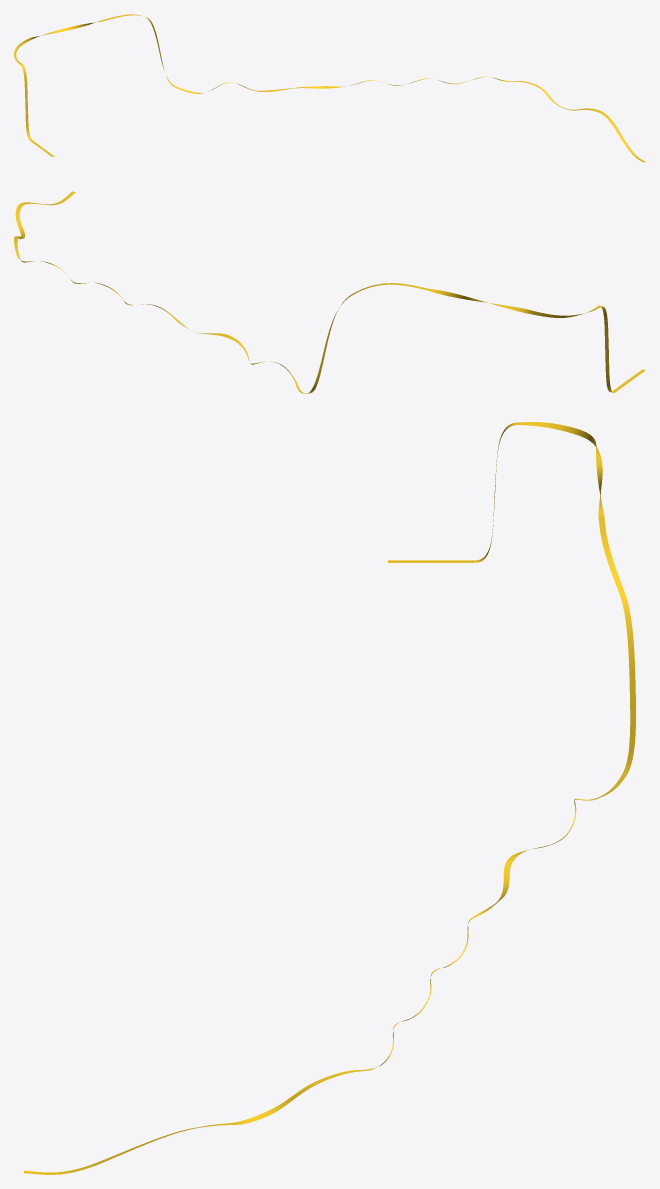
Rendered from SkyRoad02.gltf.
The picture shows the model from 3 angles, top to bottom: view 1: azimuth 30°, elevation 25°; view 2: azimuth 150°, elevation 25°; view 3: azimuth 270°, elevation 25°; orthographic projection. The views are drawn at different scales.
Visible parts, largest first — view 1: SkyRoad02; view 2: SkyRoad02; view 3: SkyRoad02.
Part boxes in pixels (x1,y1,x2,y2): SkyRoad02: (14, 14, 645, 162); SkyRoad02: (14, 191, 645, 393); SkyRoad02: (24, 422, 635, 1174).
Size of the model in its own units: 352 by 90.57 by 185.
